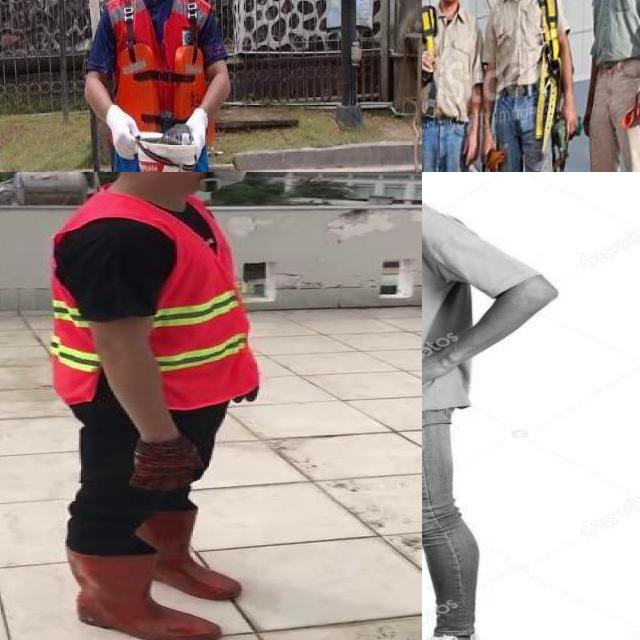Harness: (536, 0, 562, 150)
boots: (63, 549, 221, 640), (147, 509, 241, 598)
face_mask: (189, 172, 256, 189)
hand_glove: (125, 438, 208, 491), (238, 391, 262, 406)
hand_noglove: (422, 354, 453, 401)
head_helmet: (135, 127, 197, 172)
person: (33, 172, 289, 640), (422, 172, 559, 640), (66, 0, 251, 172)
vest: (56, 185, 257, 408), (105, 0, 214, 172)
